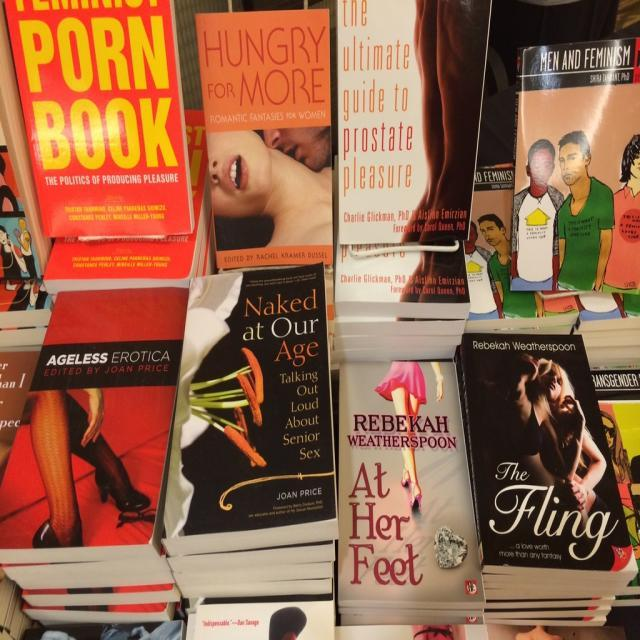book: (160, 263, 341, 550), (1, 288, 187, 558), (4, 0, 195, 242), (458, 332, 640, 582), (338, 357, 487, 613), (195, 7, 336, 268)
